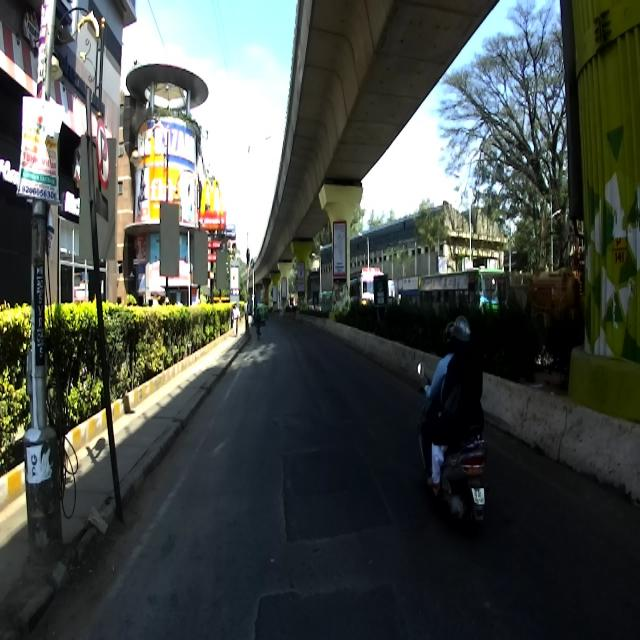scooter: (416, 360, 488, 532)
